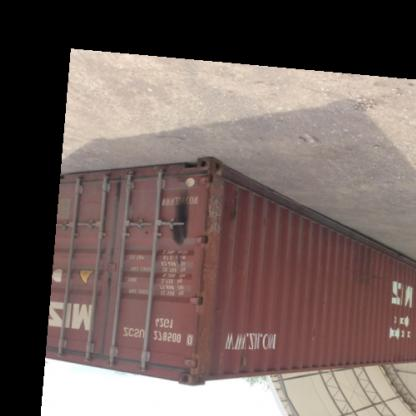Damage: (335, 251, 388, 301), (161, 184, 196, 244), (200, 174, 223, 240), (221, 190, 247, 232), (230, 344, 254, 374), (139, 223, 150, 241)
